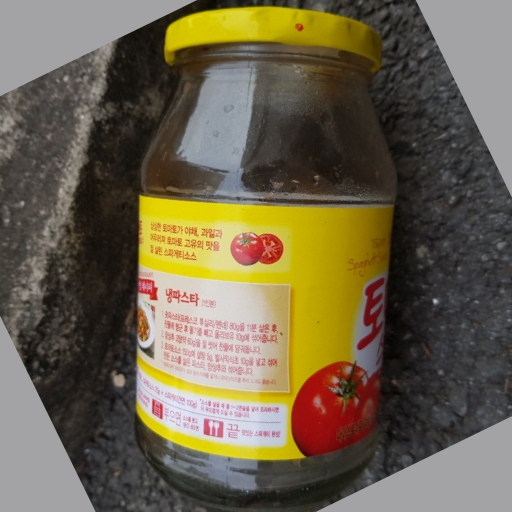Glass_5: (131, 8, 399, 511)
